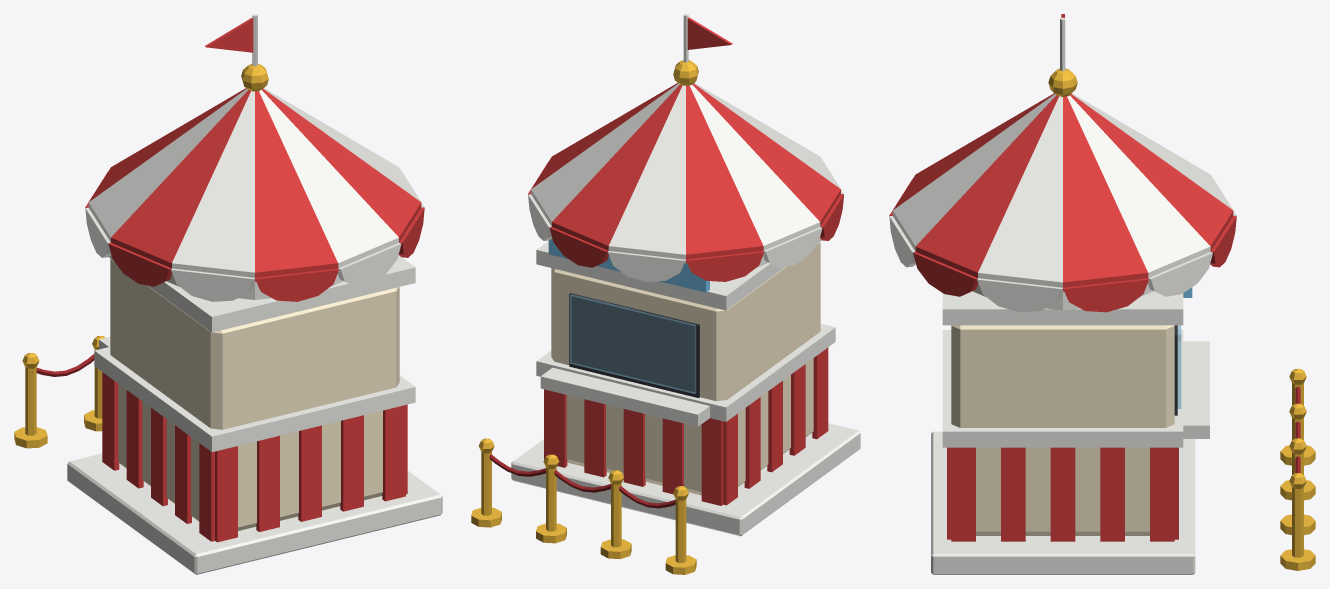
The model's file is TicketBooth.fbx.
The picture shows the model from 3 angles, left to right: view 1: azimuth 30°, elevation 25°; view 2: azimuth 150°, elevation 25°; view 3: azimuth 270°, elevation 25°; orthographic projection. The views are drawn at different scales.
Parts seen in each view (by area): view 1: TicketBooth_White, TicketBooth_Red, TicketBooth_Cream, TicketBooth_Gold; view 2: TicketBooth_White, TicketBooth_Red, TicketBooth_Cream, TicketBooth_Charcoal, TicketBooth_Glass, TicketBooth_Gold, TicketBooth_RedDark, TicketBooth_SkyBlue; view 3: TicketBooth_White, TicketBooth_Red, TicketBooth_Cream, TicketBooth_Gold.
Boxes of the visible parts, bbox=[...] form: TicketBooth_White: bbox=[67, 14, 442, 574]; TicketBooth_Red: bbox=[85, 18, 424, 542]; TicketBooth_Cream: bbox=[110, 258, 399, 530]; TicketBooth_Gold: bbox=[14, 63, 268, 448]; TicketBooth_White: bbox=[511, 14, 860, 536]; TicketBooth_Red: bbox=[528, 17, 843, 505]; TicketBooth_Cream: bbox=[551, 242, 820, 495]; TicketBooth_Charcoal: bbox=[569, 293, 699, 398]; TicketBooth_Glass: bbox=[570, 294, 696, 393]; TicketBooth_Gold: bbox=[471, 60, 698, 574]; TicketBooth_RedDark: bbox=[489, 454, 675, 508]; TicketBooth_SkyBlue: bbox=[548, 238, 709, 292]; TicketBooth_White: bbox=[889, 17, 1236, 574]; TicketBooth_Red: bbox=[889, 14, 1236, 541]; TicketBooth_Cream: bbox=[951, 325, 1174, 535]; TicketBooth_Gold: bbox=[1048, 68, 1315, 570].
Bounding box in the file's own units: 11.83 × 18.6 × 14.52.
